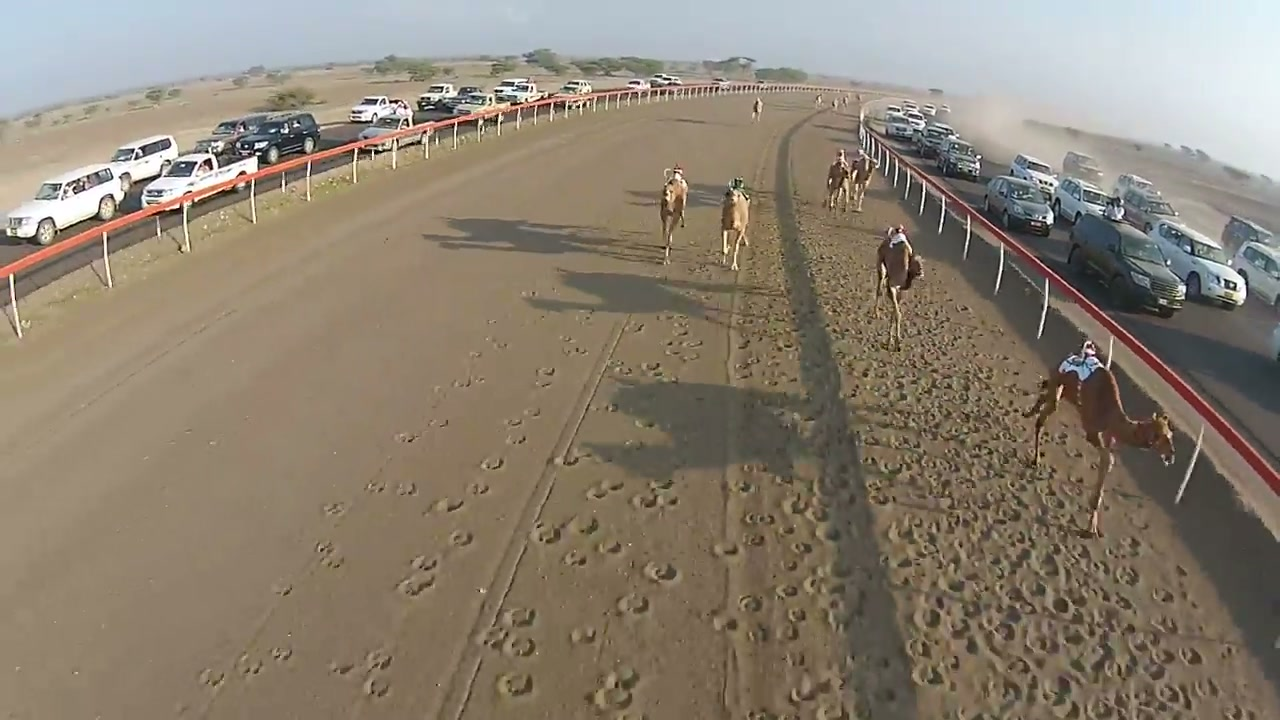animal_foot_print: (206, 187, 1267, 719), (729, 203, 1264, 717), (465, 287, 737, 717), (210, 422, 521, 713)
